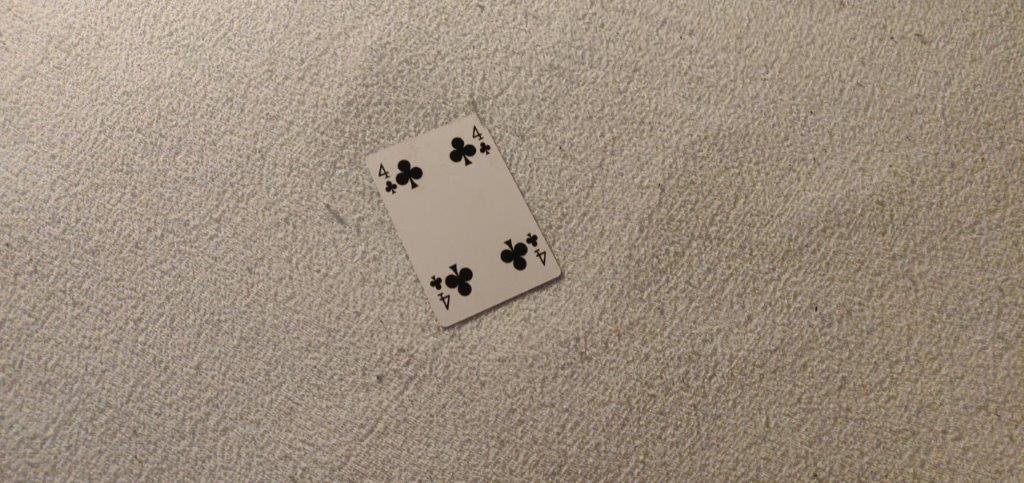4C: (373, 159, 400, 201), (469, 121, 496, 162)
